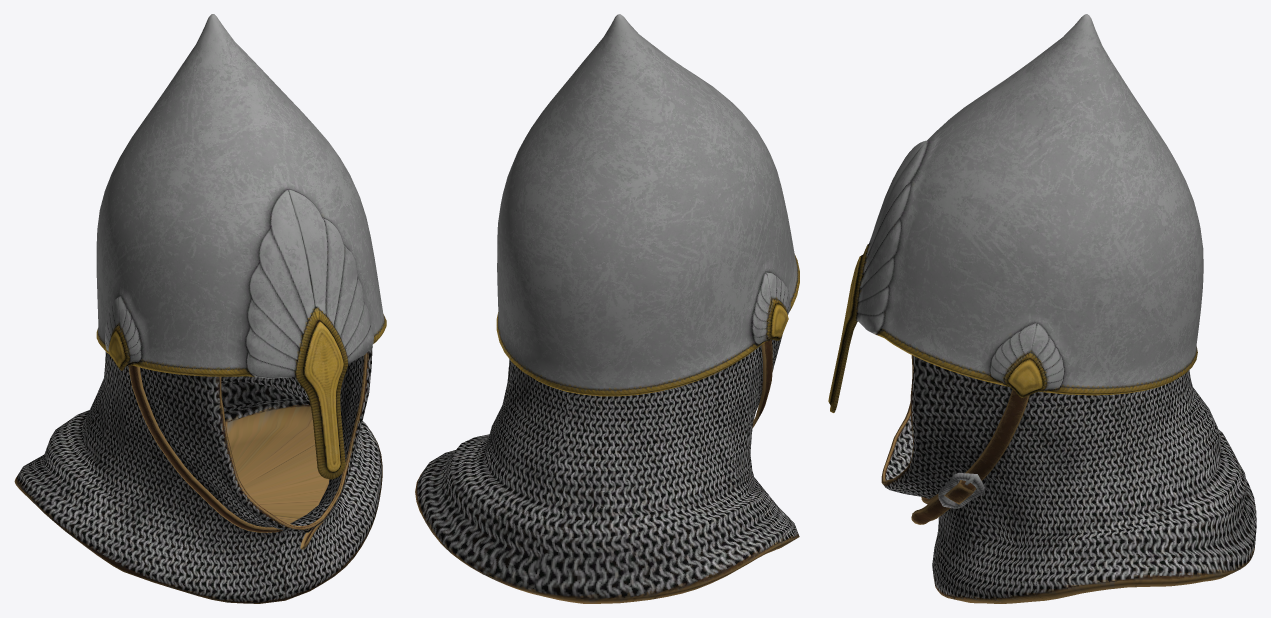
File: pelargirmarine_helmet_5_b_coif.fbx
The picture shows the model from 3 angles, left to right: view 1: azimuth 30°, elevation 25°; view 2: azimuth 150°, elevation 25°; view 3: azimuth 270°, elevation 25°; orthographic projection. The views are drawn at different scales.
Parts seen in each view (by area): view 1: pelargirmarine_helmet_5_b_coif.0, pelargirmarine_helmet_5_b_coif.1; view 2: pelargirmarine_helmet_5_b_coif.0, pelargirmarine_helmet_5_b_coif.1; view 3: pelargirmarine_helmet_5_b_coif.0, pelargirmarine_helmet_5_b_coif.1.
Boxes of the visible parts, x1,y1,x2,y2 form: pelargirmarine_helmet_5_b_coif.0: (96, 14, 386, 479); pelargirmarine_helmet_5_b_coif.1: (14, 346, 382, 603); pelargirmarine_helmet_5_b_coif.0: (496, 14, 799, 396); pelargirmarine_helmet_5_b_coif.1: (415, 335, 799, 603); pelargirmarine_helmet_5_b_coif.0: (828, 14, 1203, 412); pelargirmarine_helmet_5_b_coif.1: (881, 355, 1256, 603).
Size of the model in its own units: 0.2905 by 0.3082 by 0.4511.
Materials: 2 (2 with a texture image).
